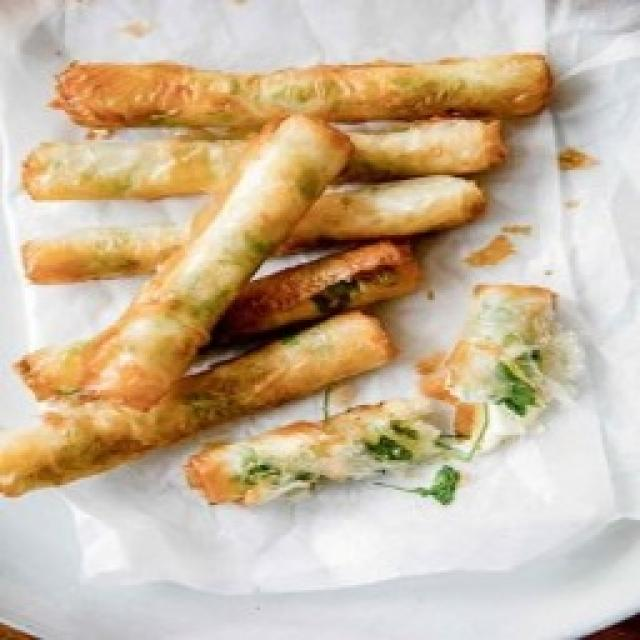Brik: (60, 52, 628, 478)
